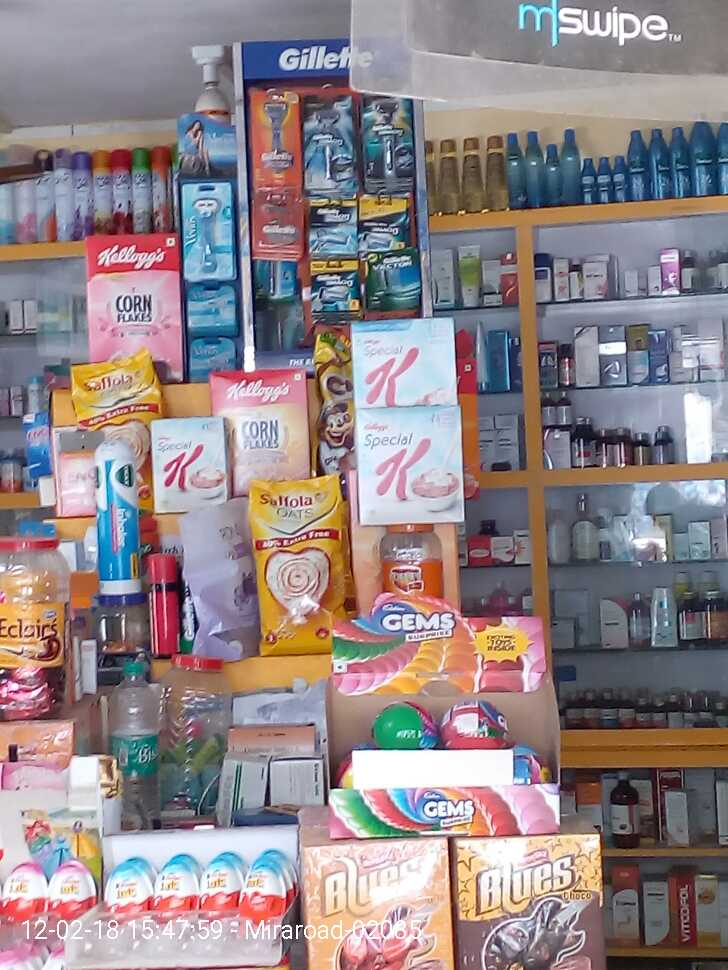beauty: (246, 89, 303, 189), (359, 90, 418, 184), (180, 183, 234, 275), (301, 97, 356, 186), (360, 256, 422, 315), (307, 198, 359, 262), (360, 190, 410, 254), (181, 334, 245, 384), (251, 195, 304, 253), (184, 286, 245, 328), (307, 262, 359, 309)
